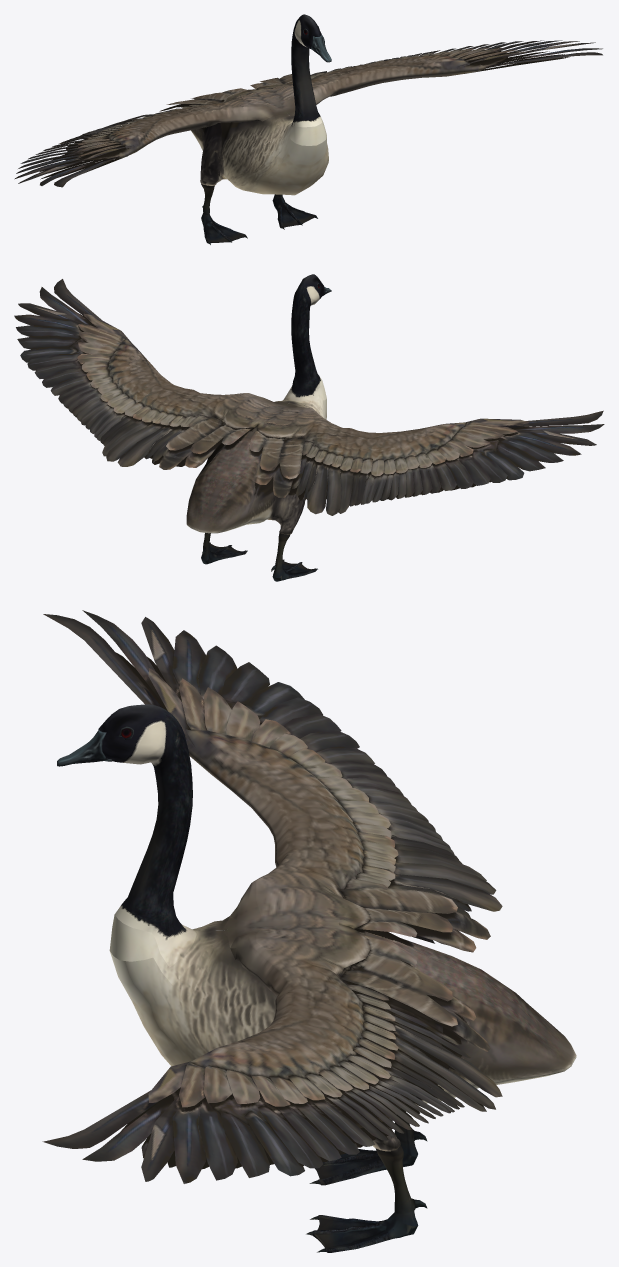
File: pattern-1.glb
3 renders of one model, top to bottom at view 1: azimuth 30°, elevation 25°; view 2: azimuth 150°, elevation 25°; view 3: azimuth 270°, elevation 25°, orthographic. The views are drawn at different scales.
Visible parts, largest first — view 1: 3DSMeshMatrix; view 2: 3DSMeshMatrix; view 3: 3DSMeshMatrix.
Boxes of the visible parts, x1,y1,x2,y2 form: 3DSMeshMatrix: [14, 14, 602, 244]; 3DSMeshMatrix: [14, 274, 604, 581]; 3DSMeshMatrix: [42, 610, 576, 1252].
Size of the model in its own units: 359 by 148 by 143.
Materials: 1 (1 with a texture image).
